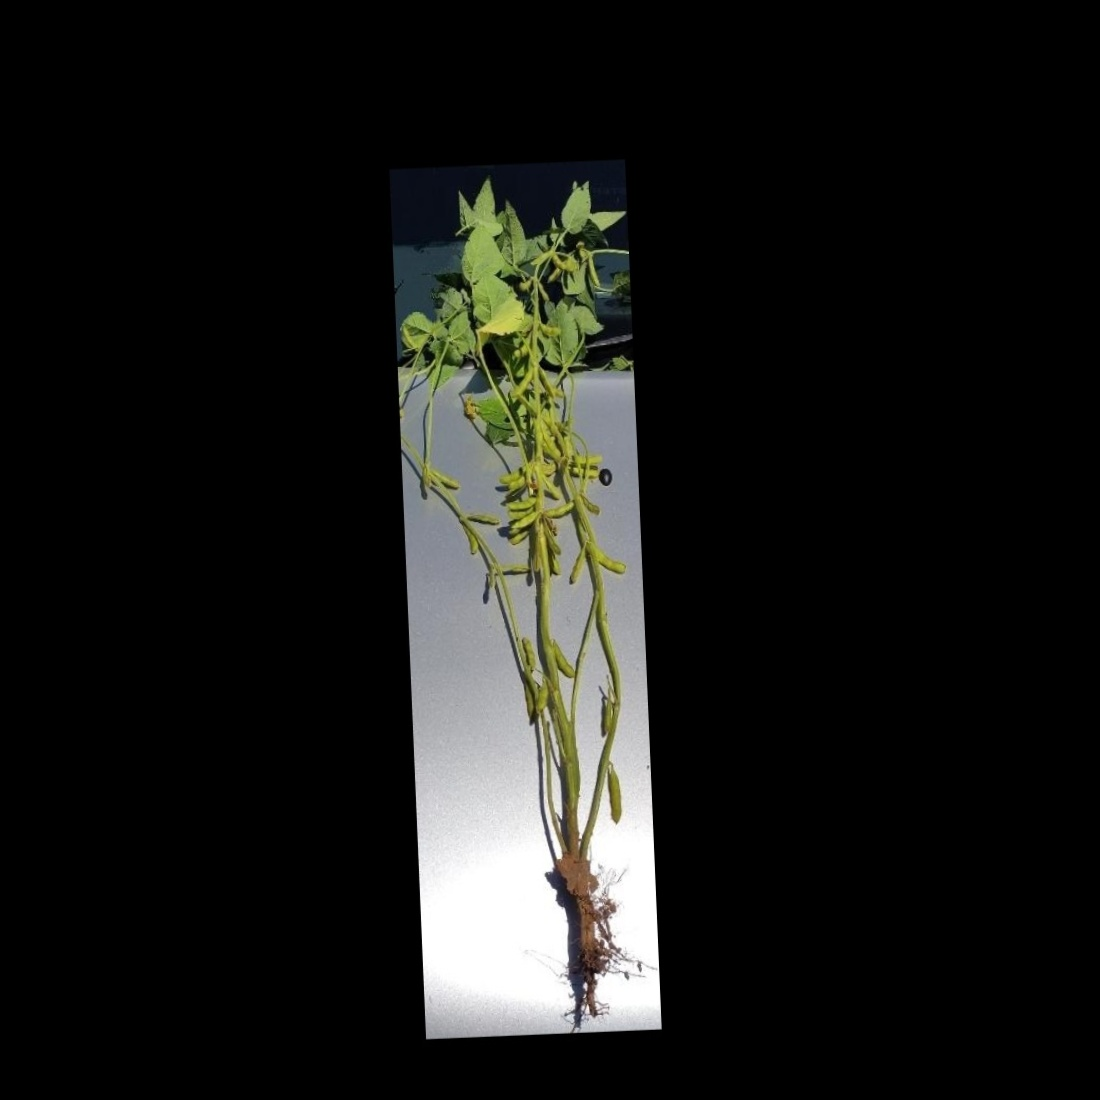pod: (602, 765, 627, 832), (562, 537, 591, 589), (507, 361, 539, 402), (534, 464, 563, 505), (553, 634, 578, 680), (597, 545, 629, 579), (464, 508, 505, 528), (508, 509, 542, 532), (539, 499, 576, 520), (520, 631, 538, 672), (502, 494, 538, 512), (536, 318, 563, 339)
soy: (400, 199, 643, 1000)
